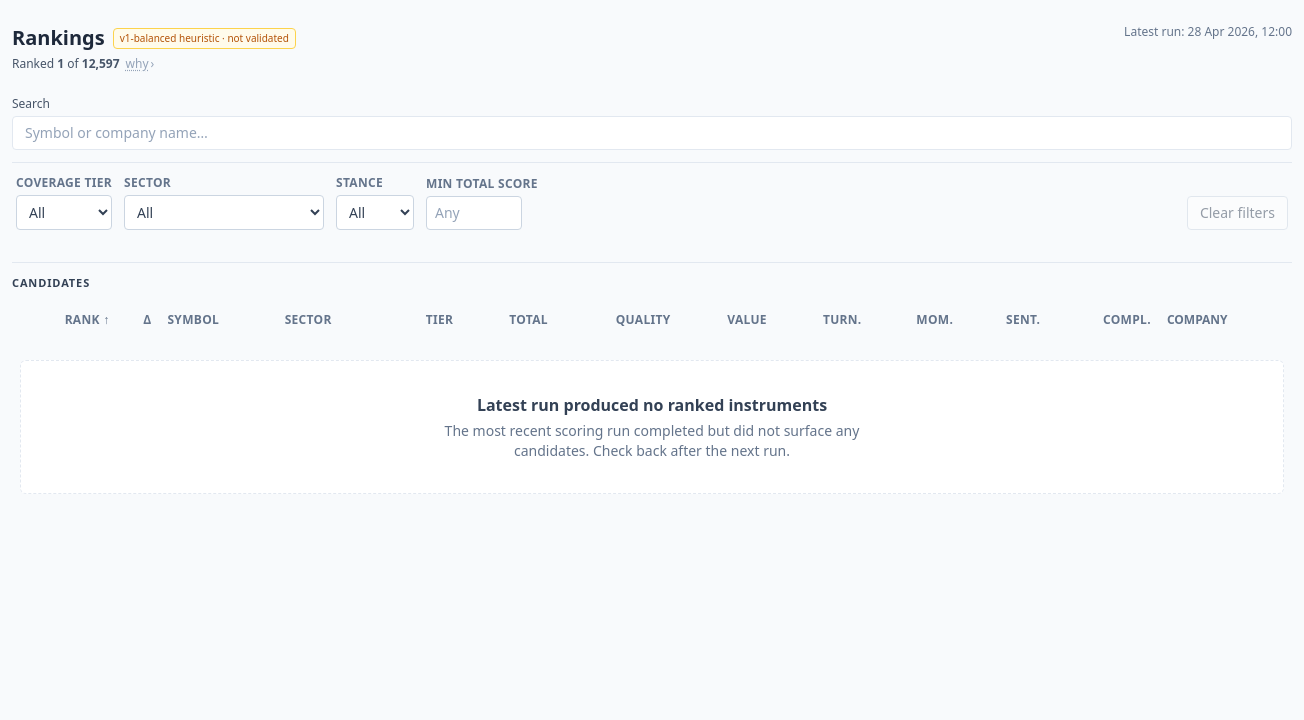
Test: RankingsPage — server-authoritative (#1825) › shows the dirty-filter empty state when a search returns nothing
Expected: the heading "Latest run produced no ranked instruments" is shown, [477,392,827,416]
Type "zzz" into the field labelled "Search" at (652, 133), box [12,116,1292,150]
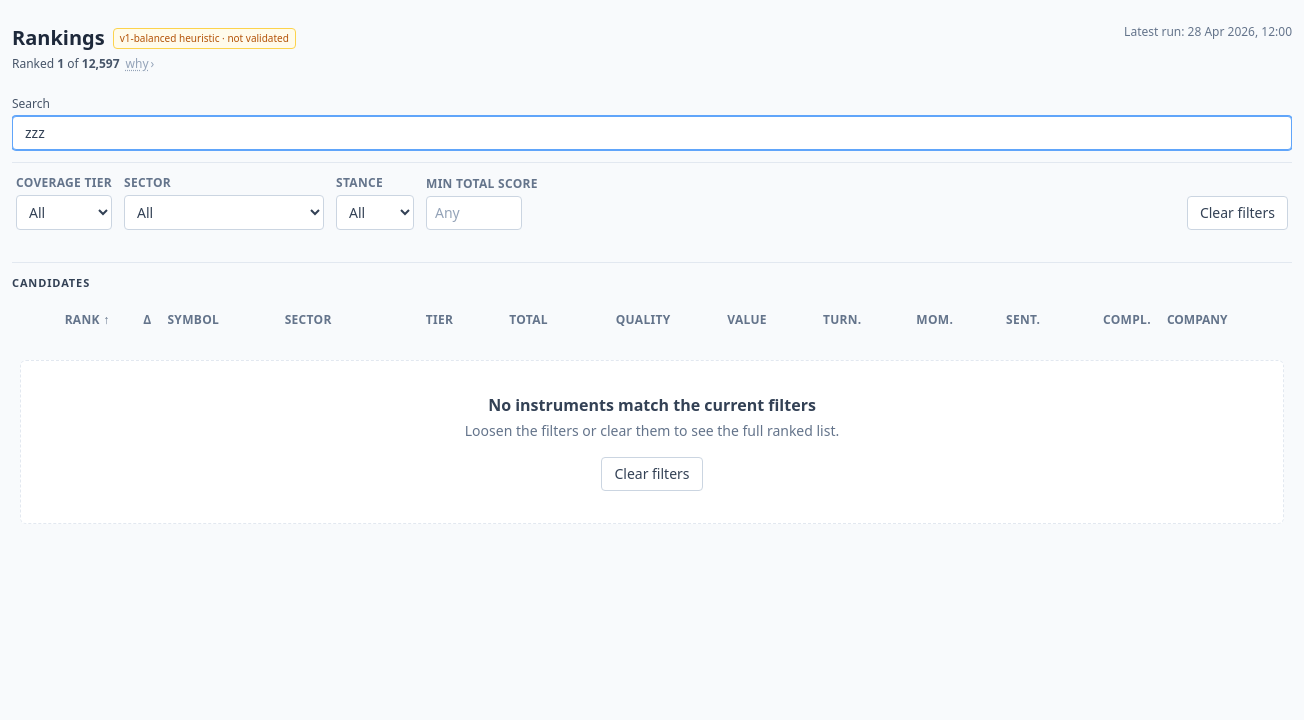
Now the heading "No instruments match the current filters" is shown, box [488,392,816,416]
